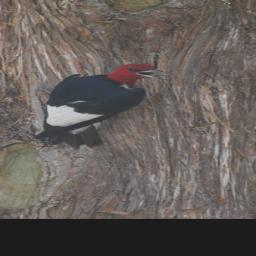Woodpecker: (22, 60, 174, 149)
